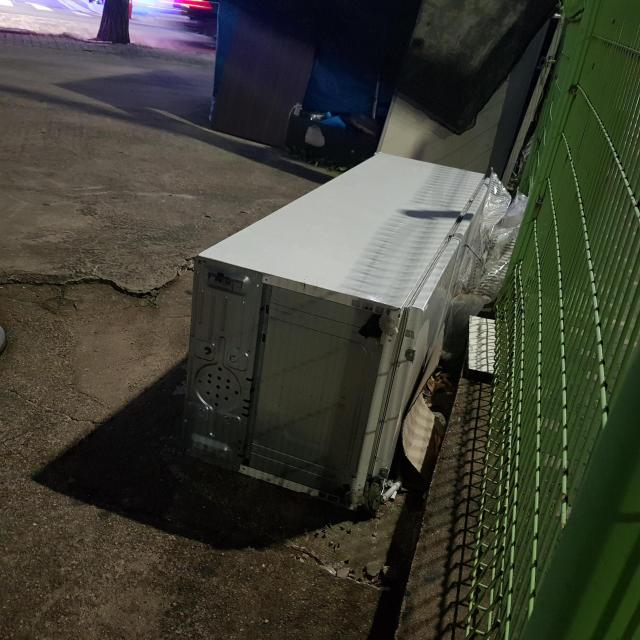refrigerator: (176, 152, 494, 514)
